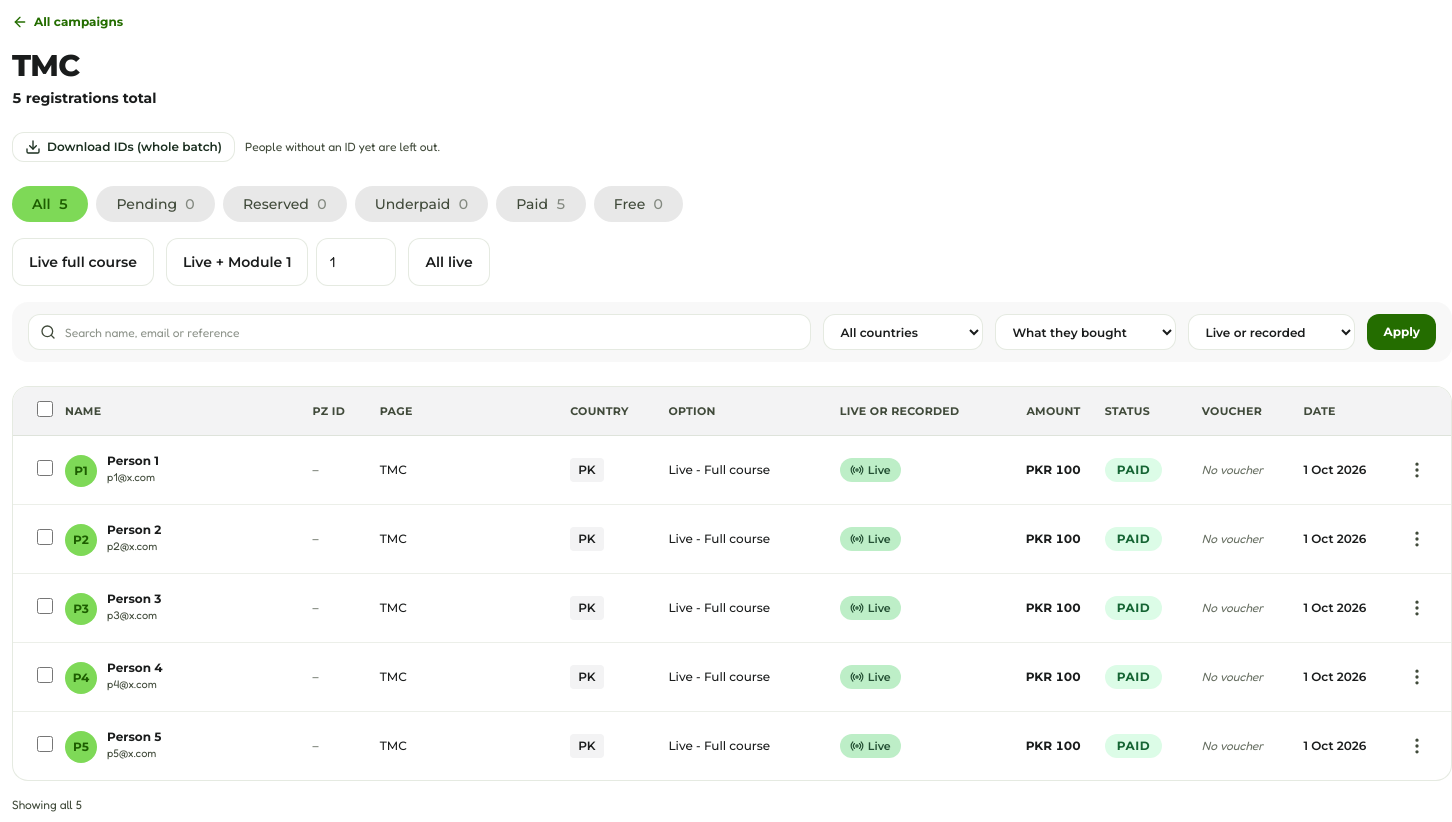
ID PDF button › tells the owner when no one in the selection has an ID
Click the button "Download IDs (whole batch)": (124, 147) [12,132,235,162]
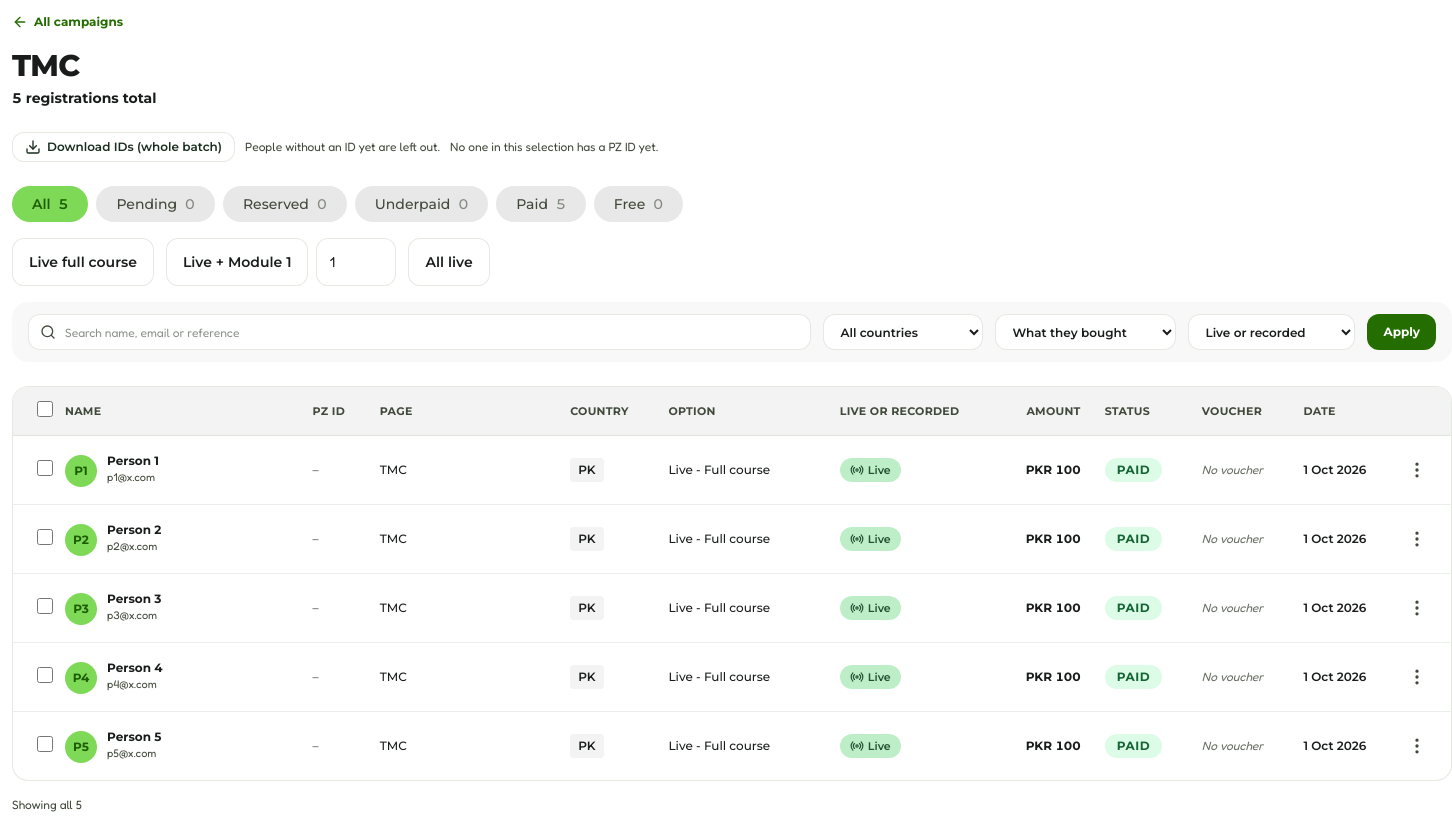
Expected: the text "No one in this selection has a PZ ID yet." is shown, [450,139,658,155]
